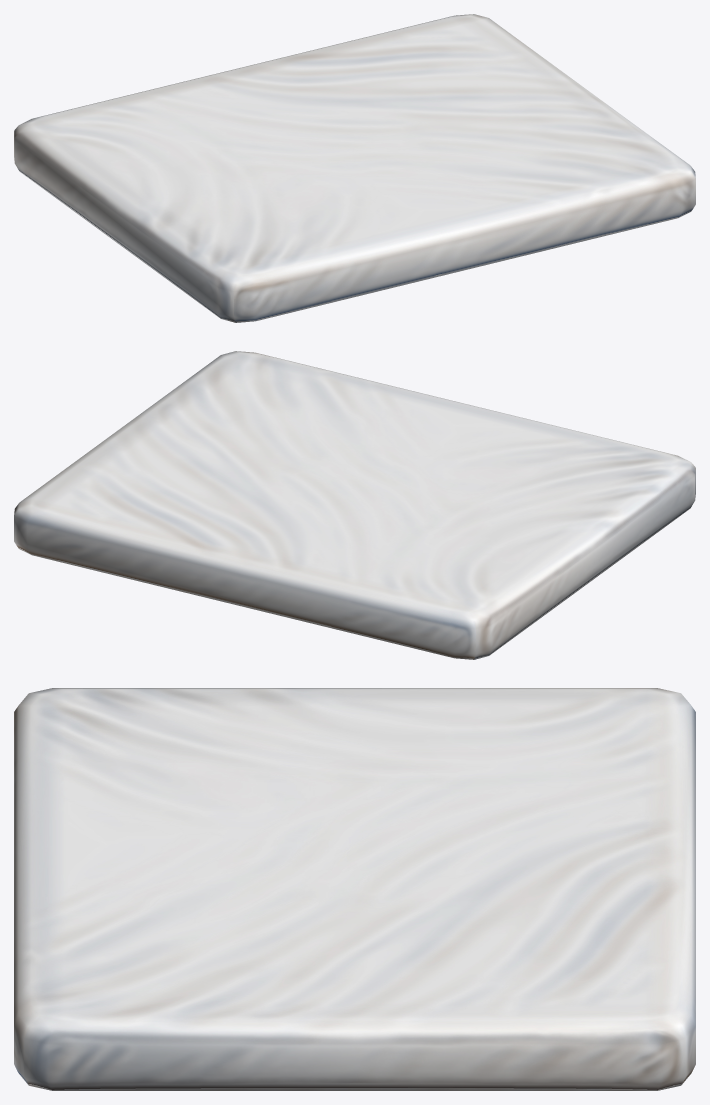
File: bed.dae
The picture shows the model from 3 angles, top to bottom: view 1: azimuth 30°, elevation 25°; view 2: azimuth 150°, elevation 25°; view 3: azimuth 270°, elevation 25°; orthographic projection. The views are drawn at different scales.
Parts seen in each view (by area): view 1: bed; view 2: bed; view 3: bed.
Boxes of the visible parts, x1,y1,x2,y2 form: bed: [14, 14, 695, 322]; bed: [14, 351, 695, 659]; bed: [14, 688, 695, 1090].
Size of the model in its own units: 2.23 by 0.1886 by 1.84.
Materials: 1 (1 with a texture image).
